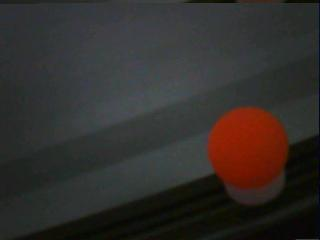oball: (207, 106, 287, 189)
